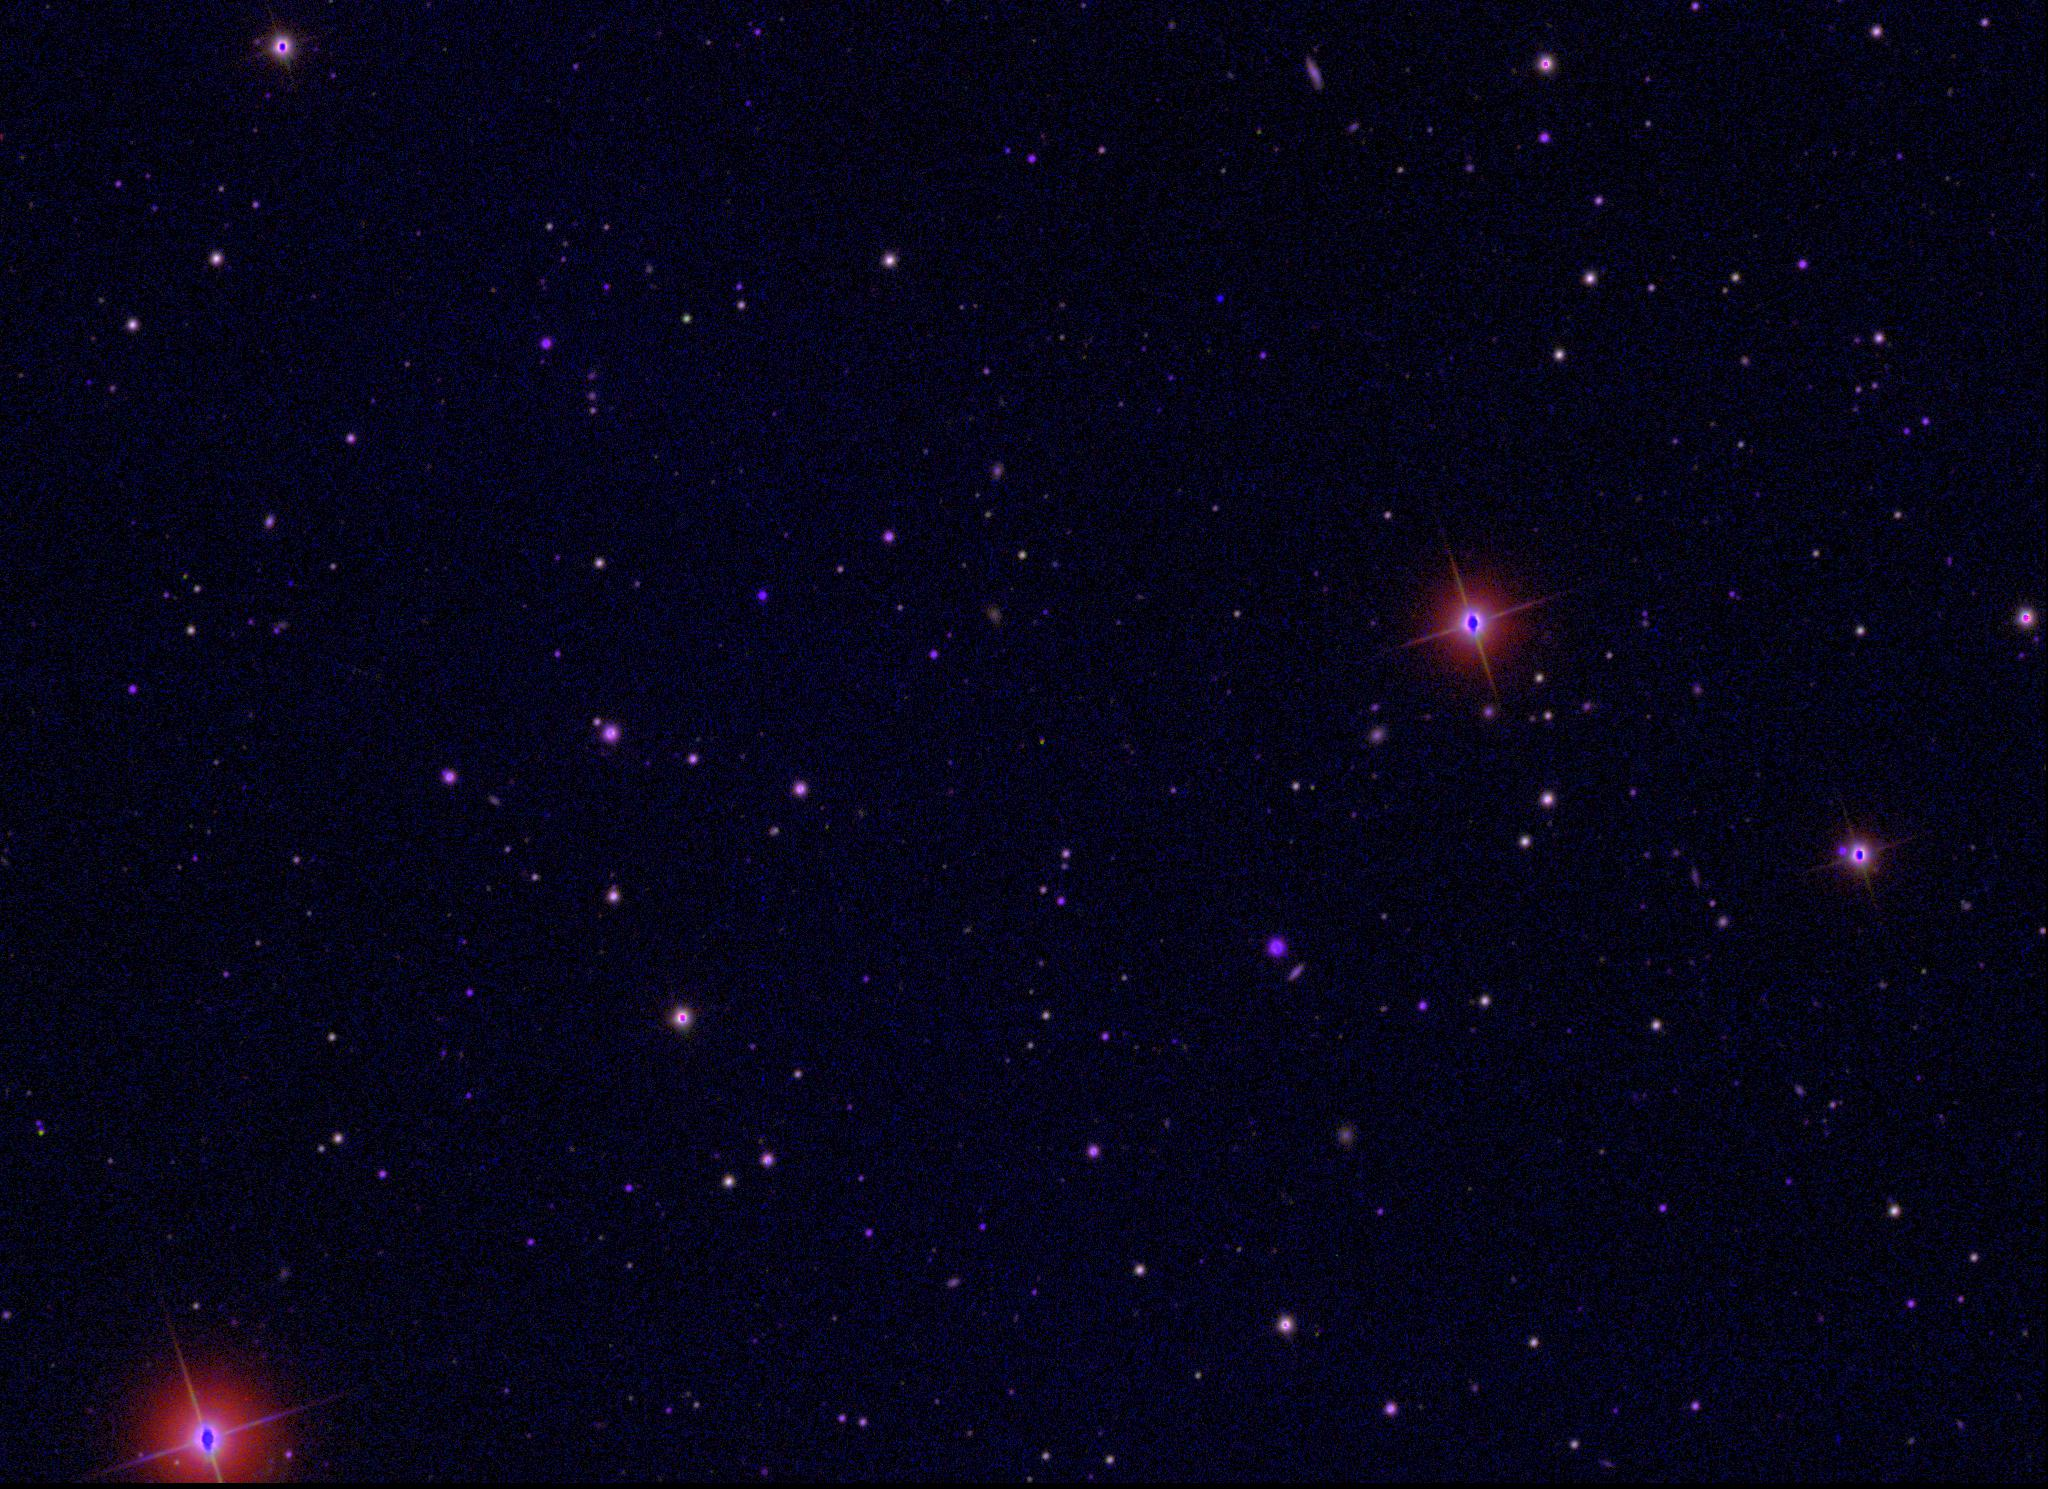L: (1213, 291, 1228, 305)
